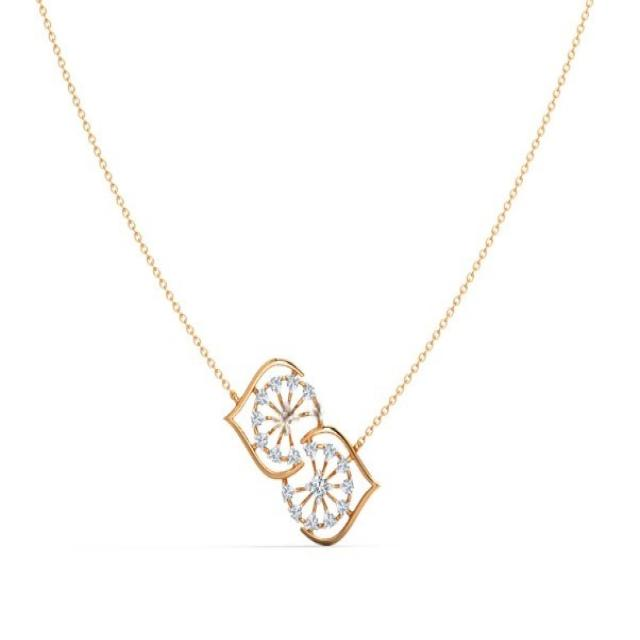missing gem: (278, 407, 295, 437), (309, 402, 323, 421)
